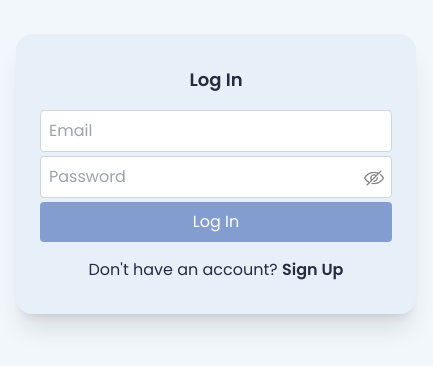
Test: Login Page › displays error message on failed verification
Type "test@example.com" into the field with placeholder "Email" at [216, 131], box [40,110,392,152]
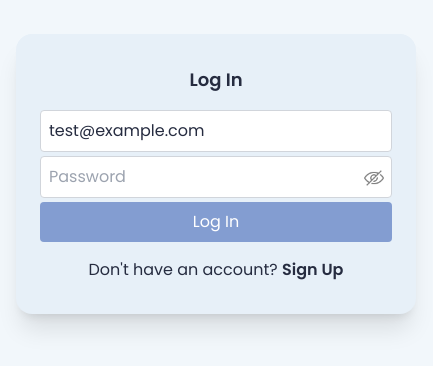
Type "wrongPassword1" into the password field with placeholder "Password" at [216, 177], box [40,156,392,198]
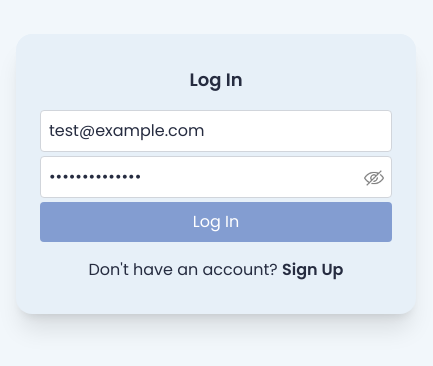
Click the button "Log In" at [216, 222], box [40,202,392,242]
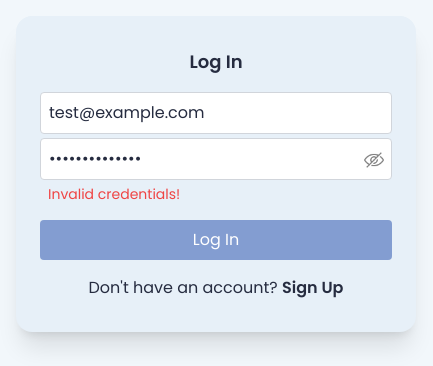
expect the text "Invalid credentials!" is shown: met, box [48,184,180,204]
